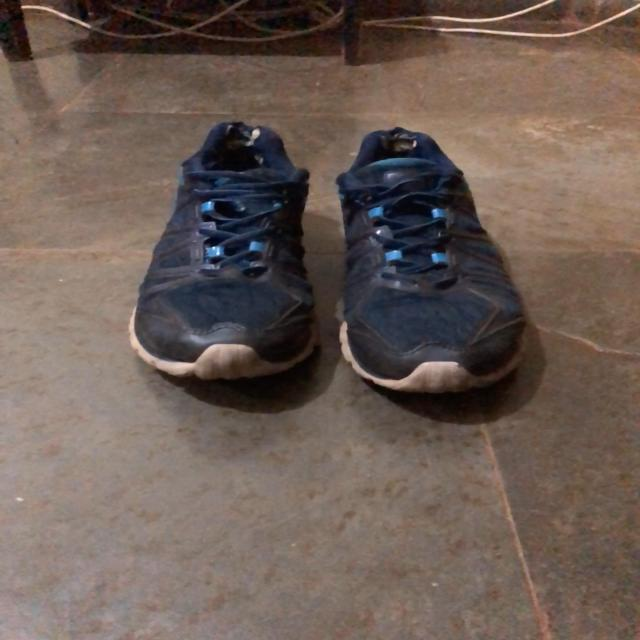shoe: (128, 121, 320, 397), (336, 128, 528, 396)
